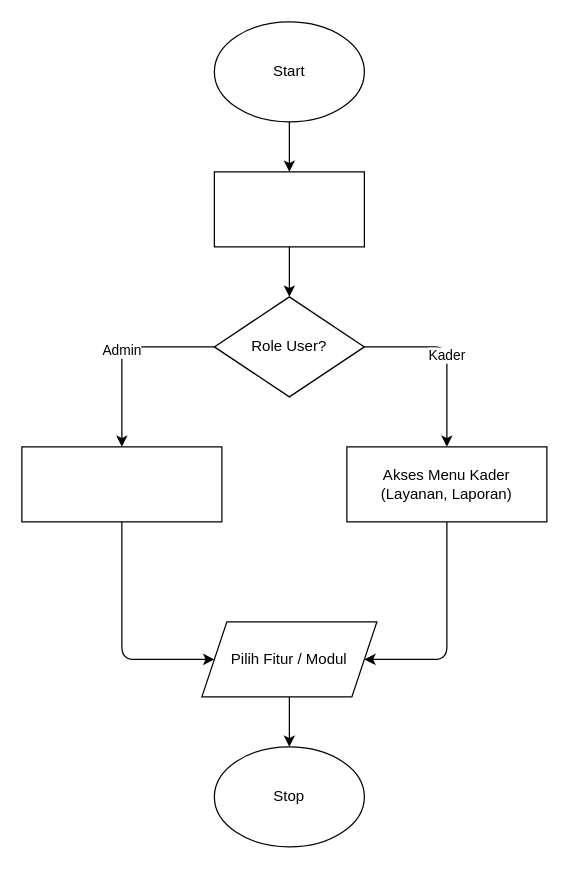
The diagram is 569 pixels wide and 869 high, and some of its shapes have lost their labels. Here are the shapes that lost their labels. From the top down, the box of each, then its label:
(213, 171, 364, 247): Tampilkan Dashboard
(21, 446, 222, 522): Akses Menu Admin (Kader, Laporan, dsb)
